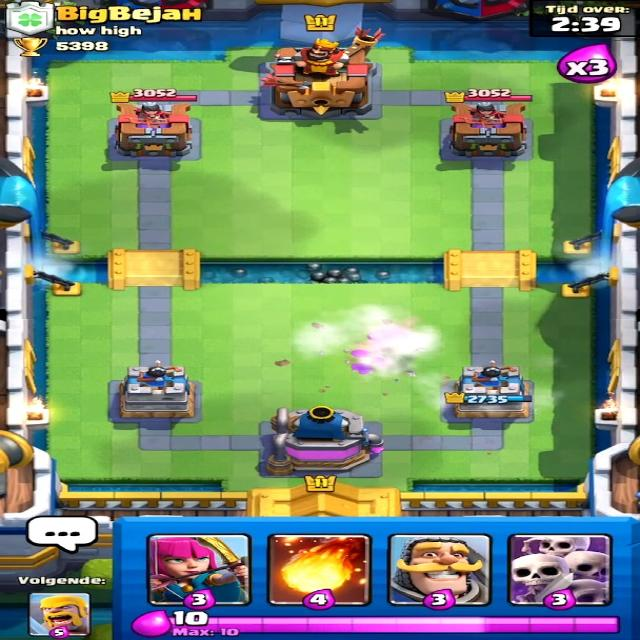Fireball_Card: (265, 534, 379, 610)
